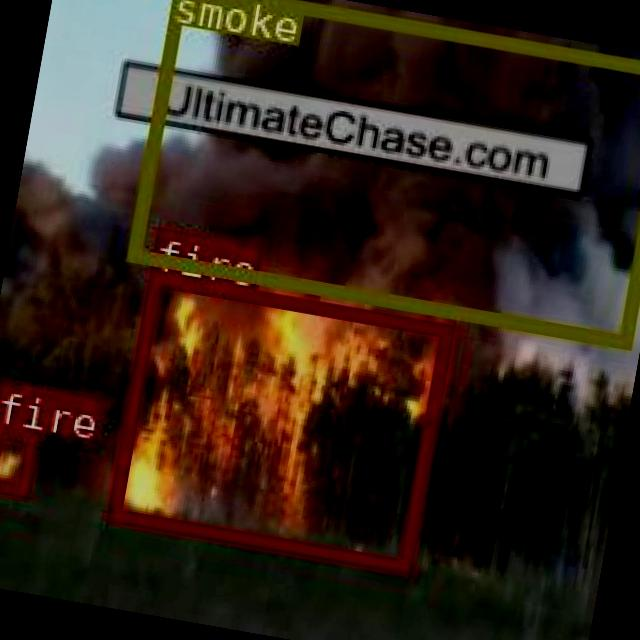fire: (103, 269, 450, 569), (0, 423, 38, 496)
smoke: (123, 0, 640, 346)
